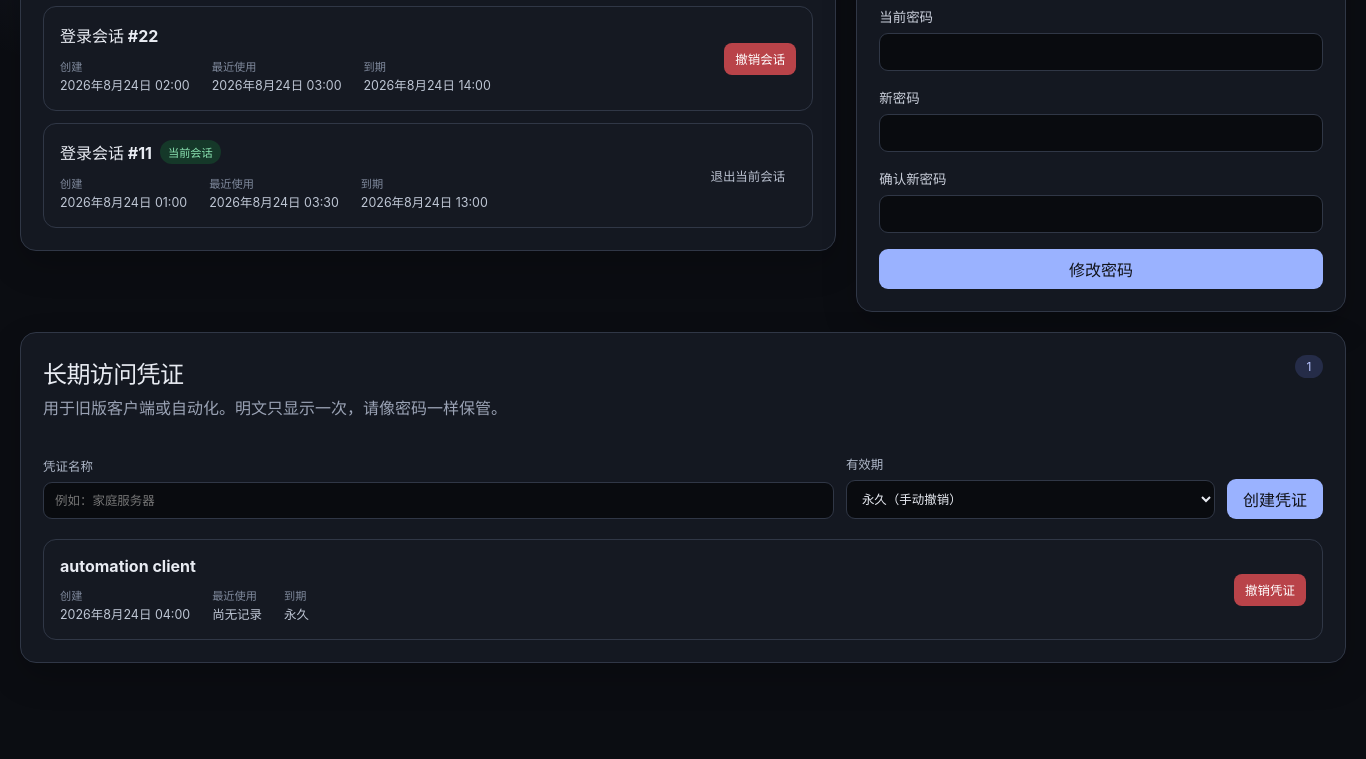
Test: AccountSecurityPage › lists and revokes a long-lived access token without false success
(page scrolled)
Expected: the element with test id "access-token-33" shows "永久", [284,607,309,622]
Click the button "撤销凭证" at [1270, 590], box [1234,574,1306,606]
(page scrolled)
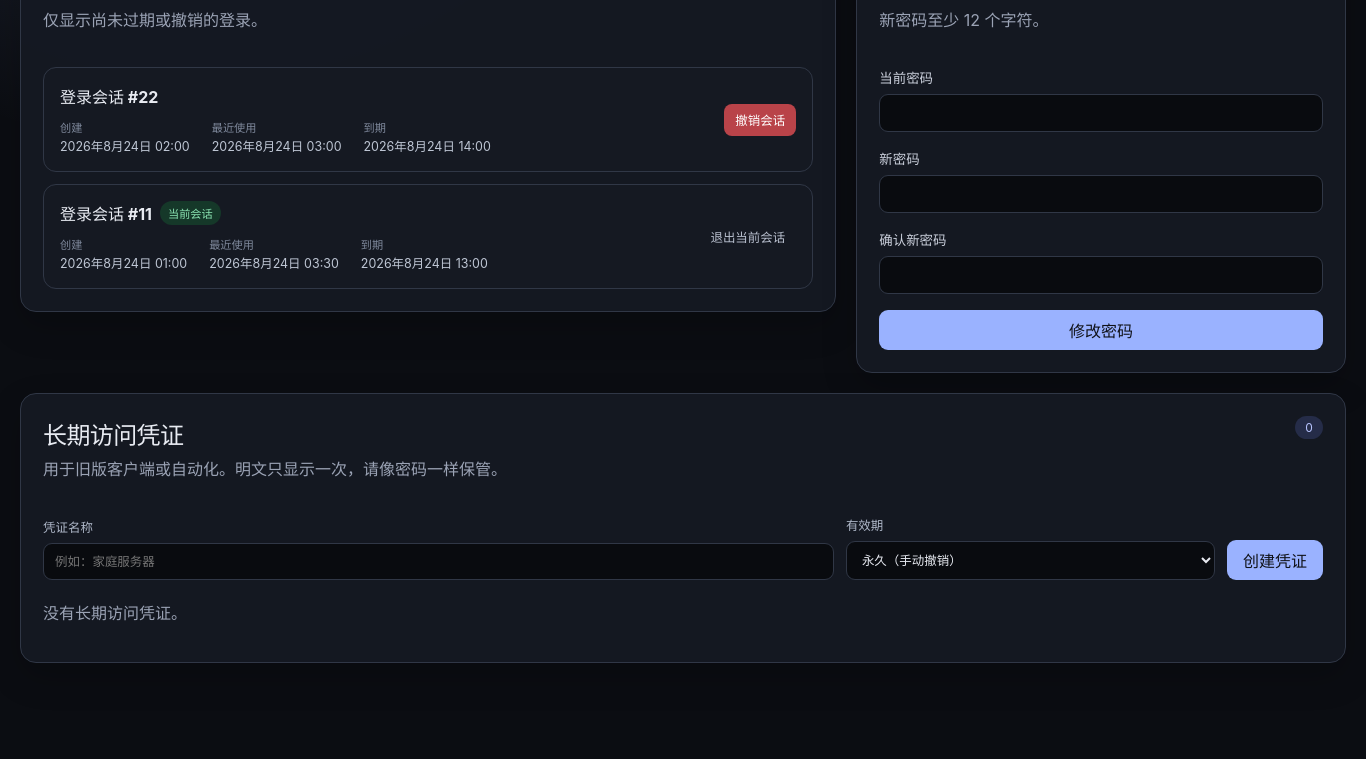
Expected: the element with test id "access-token-33" is gone
